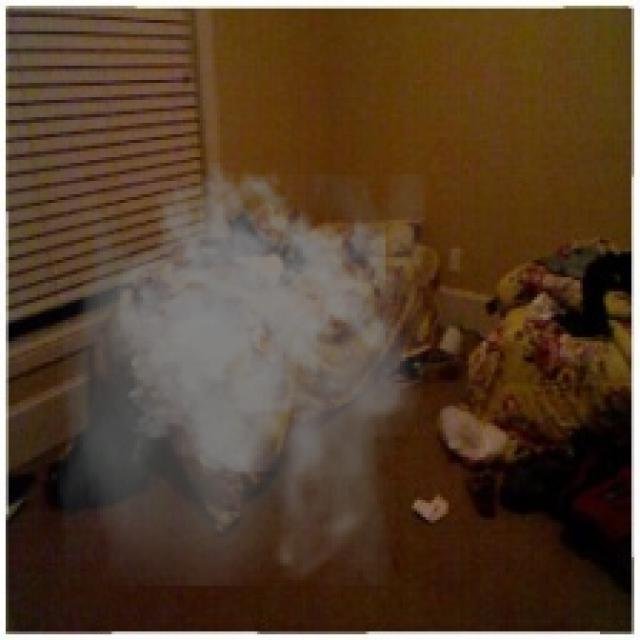Smoke: (57, 160, 426, 586)
